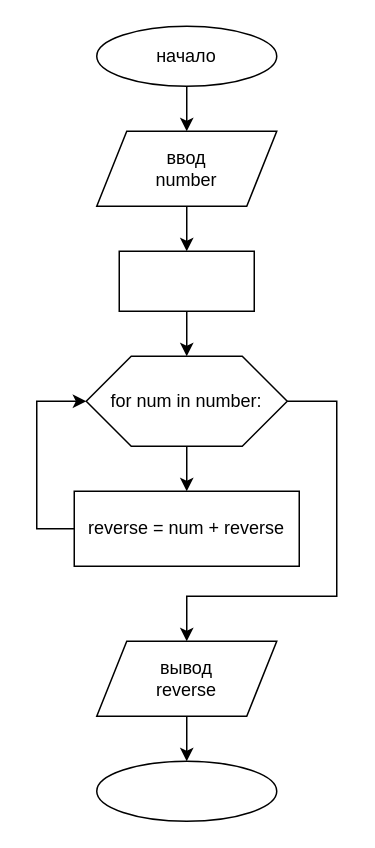
The diagram is 375 pixels wide and 848 high, and some of its shapes have lost their labels. The shapes that lost their labels are listed below. From the top down, each one's centre as x and y in pixels, then its label:
(x=186, y=280): reverse = ''
(x=186, y=790): конец
